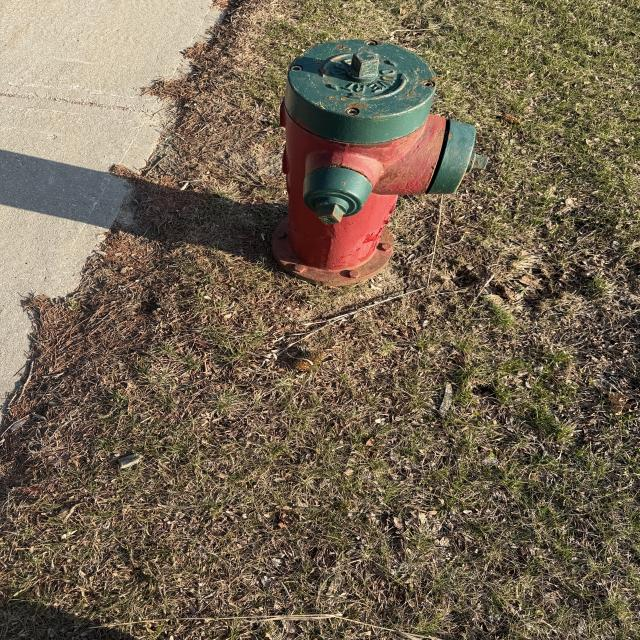Fire hydrant: (270, 39, 490, 288)
